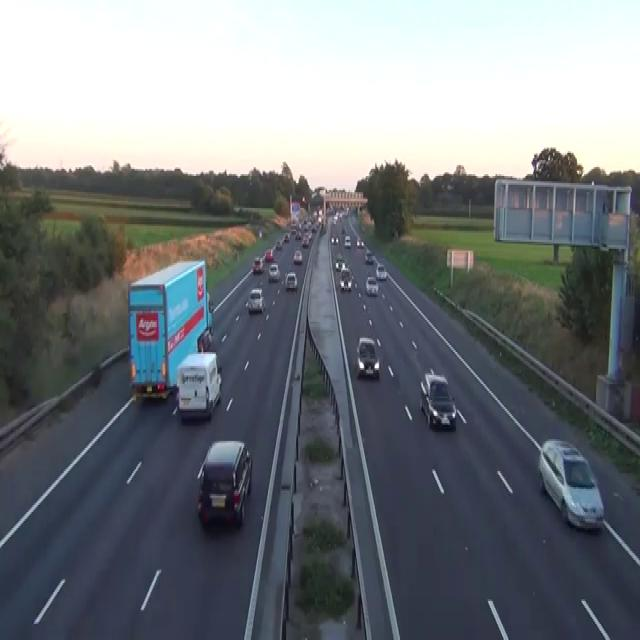Car: (538, 438, 604, 532), (196, 439, 252, 528), (419, 370, 456, 430), (356, 336, 379, 379), (245, 288, 265, 313), (339, 266, 352, 290), (207, 292, 214, 334), (365, 276, 378, 295), (285, 270, 297, 290), (267, 263, 280, 281), (252, 256, 263, 274), (375, 263, 386, 279), (207, 291, 214, 313), (335, 254, 344, 270), (293, 249, 302, 263), (264, 247, 273, 261), (364, 251, 373, 263), (341, 267, 351, 277), (344, 235, 351, 247), (259, 254, 265, 268), (275, 238, 282, 249), (356, 238, 364, 247), (301, 237, 308, 247), (295, 229, 301, 240), (331, 234, 338, 243), (233, 204, 240, 213), (283, 233, 289, 242), (290, 224, 296, 233), (332, 215, 337, 224), (258, 228, 262, 238), (356, 237, 360, 247), (341, 226, 345, 233)
Truck: (127, 258, 213, 400), (175, 350, 222, 420)
